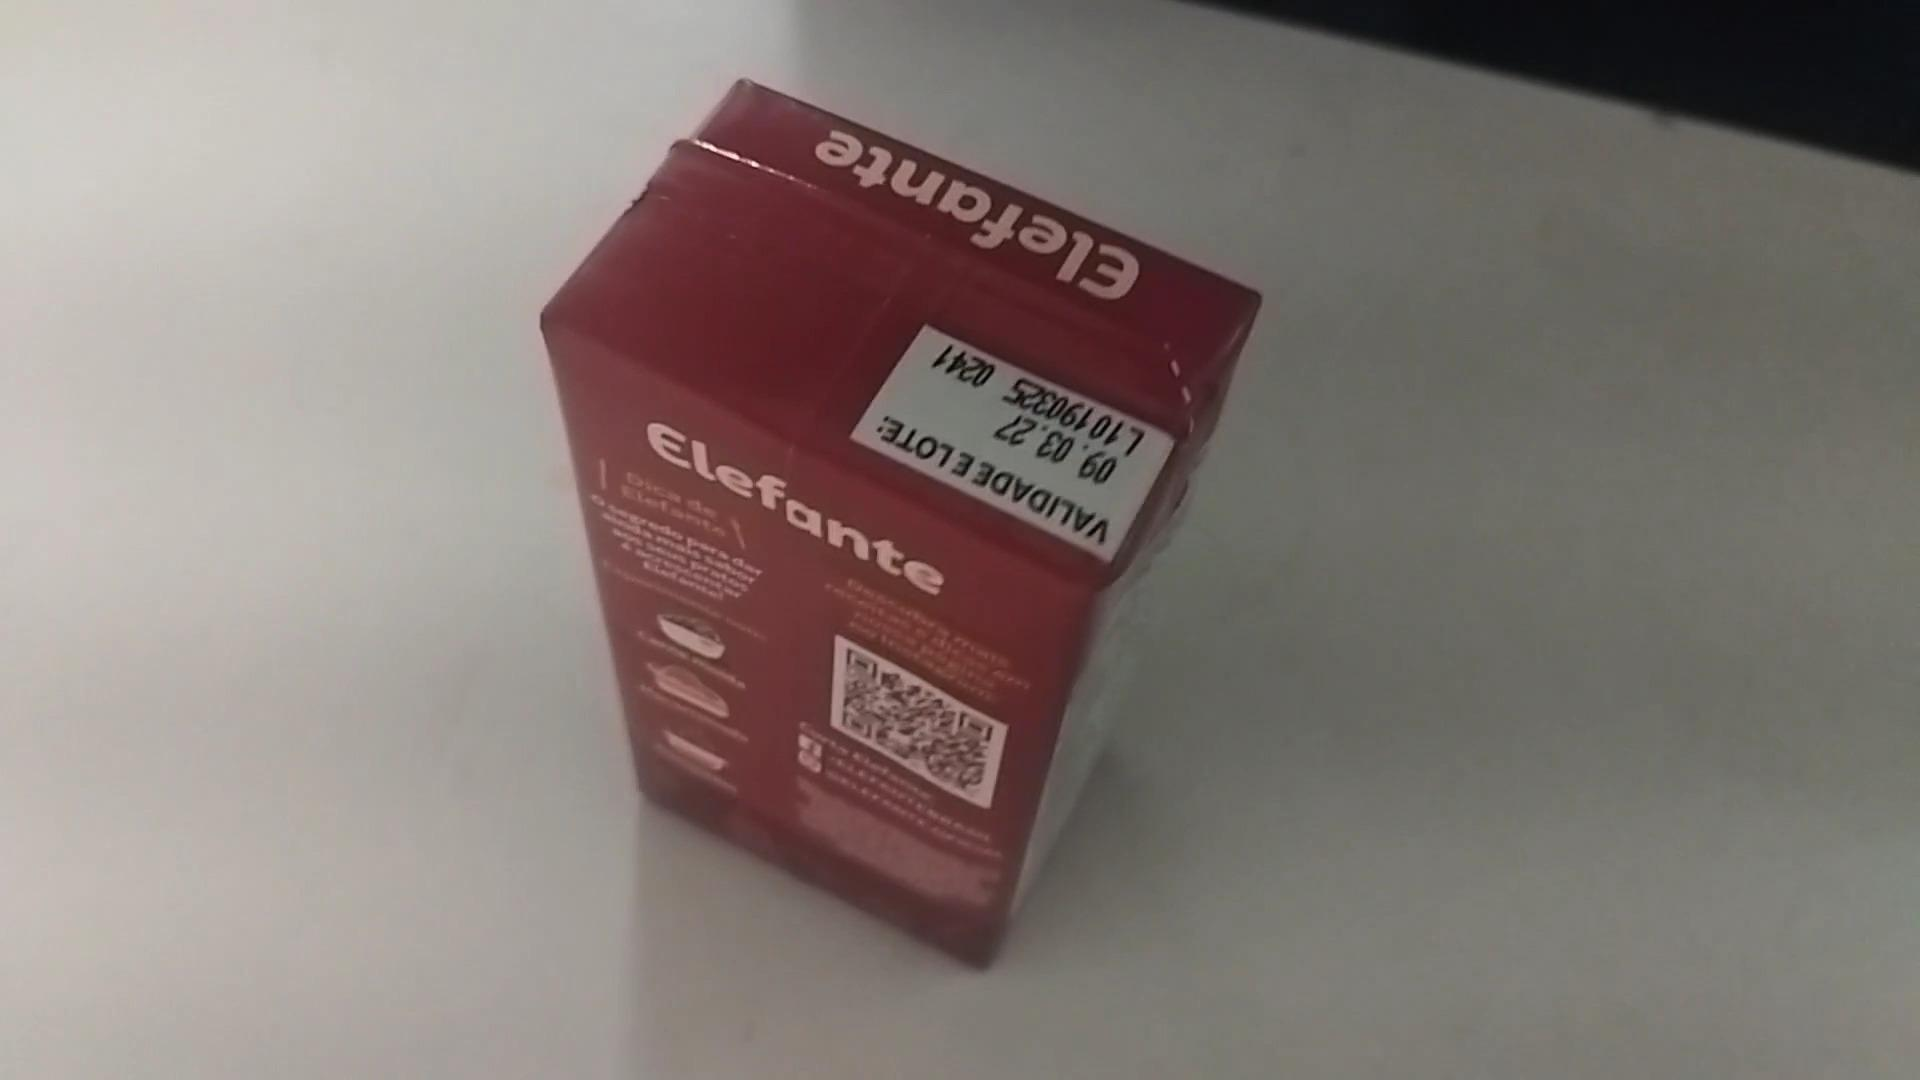tomate: (547, 70, 1269, 976)
